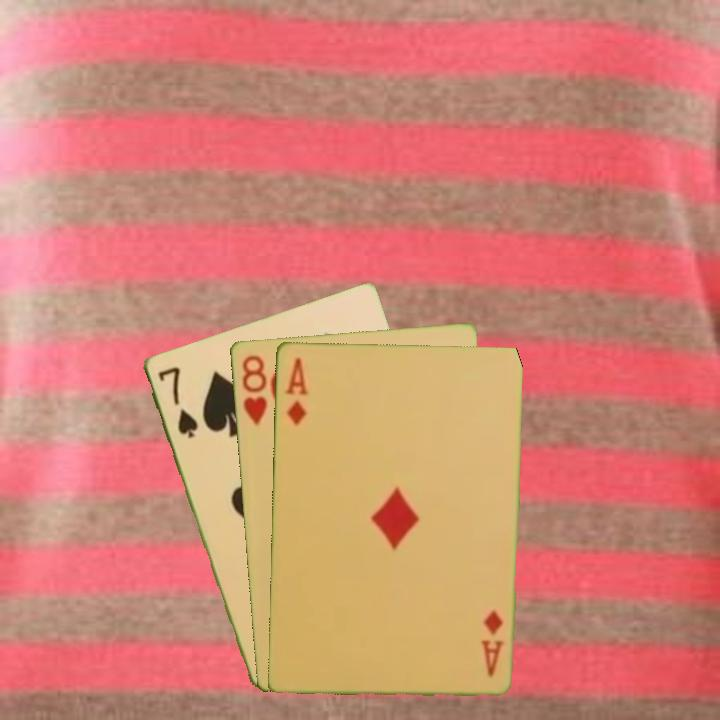7s: (153, 363, 201, 441)
8h: (238, 351, 270, 428)
Ad: (280, 353, 310, 427), (477, 606, 506, 680)
